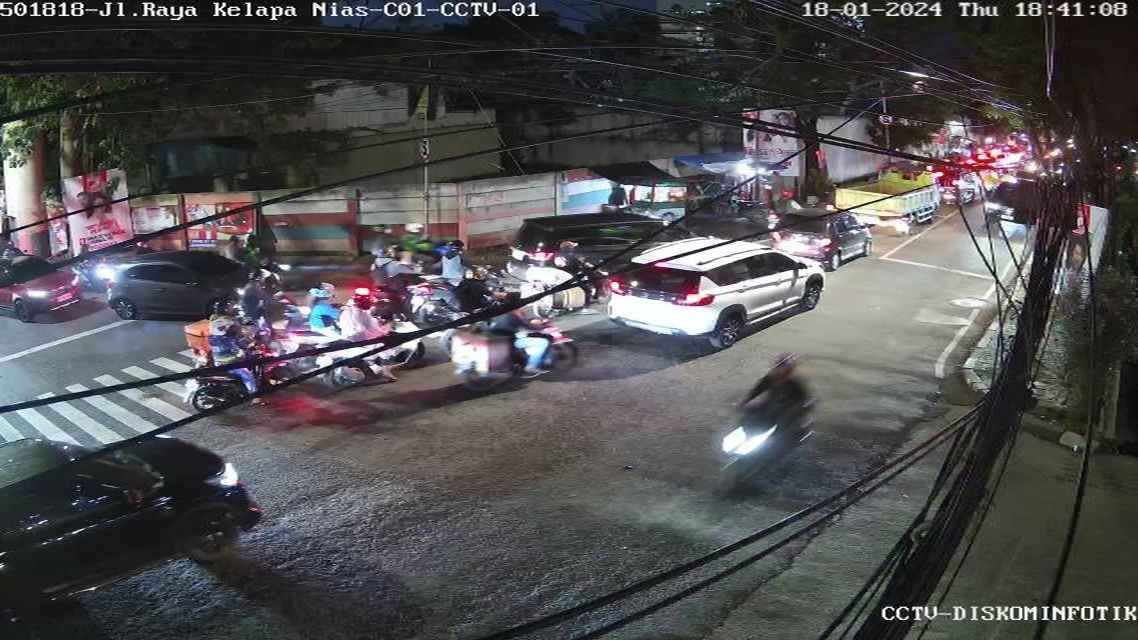Gerobak: (624, 184, 692, 226)
Terpal: (590, 165, 697, 185), (672, 154, 754, 171)
